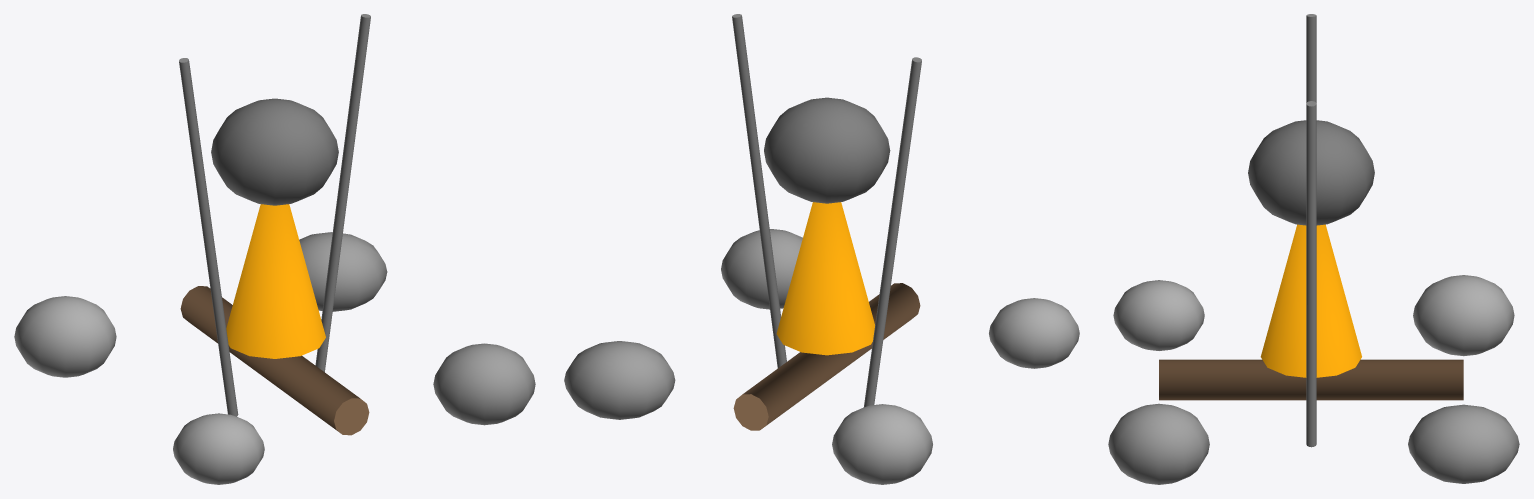
File: env-ww-campfire.glb
3 renders of one model, left to right at view 1: azimuth 30°, elevation 25°; view 2: azimuth 150°, elevation 25°; view 3: azimuth 270°, elevation 25°, orthographic.
Size of the model in its own units: 0.81 by 0.795 by 0.81.
